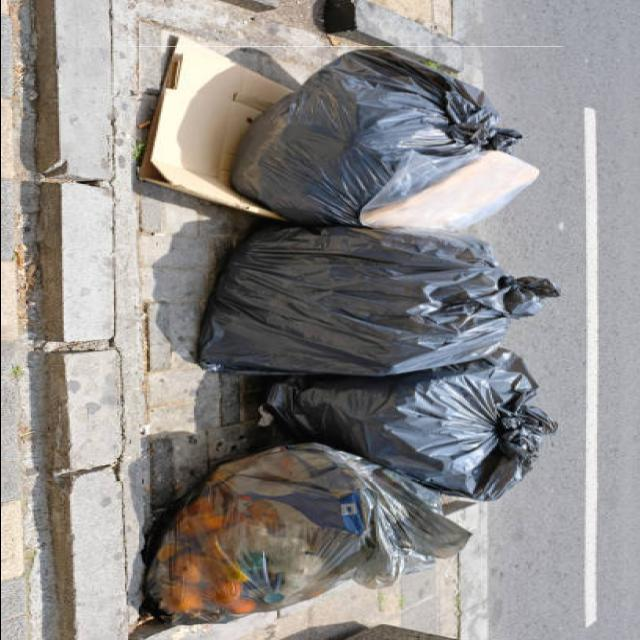Trashbag: (205, 224, 558, 376), (155, 443, 453, 616), (237, 49, 500, 215), (278, 359, 551, 455)
